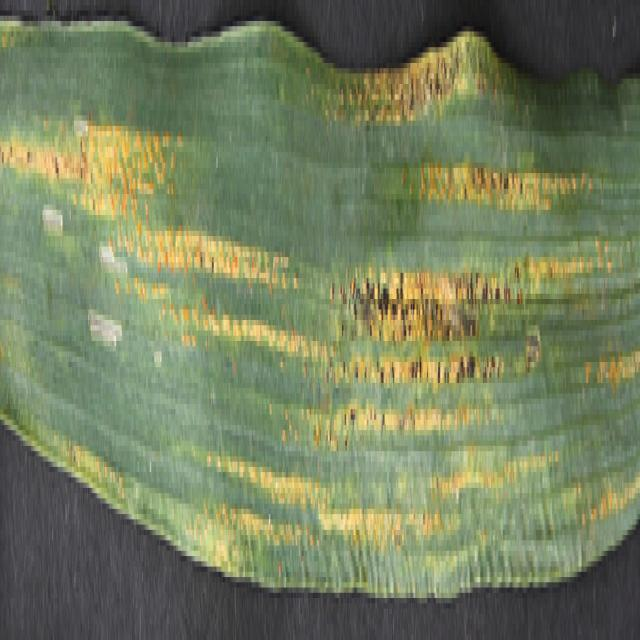leaf rust: (1, 89, 326, 572)
